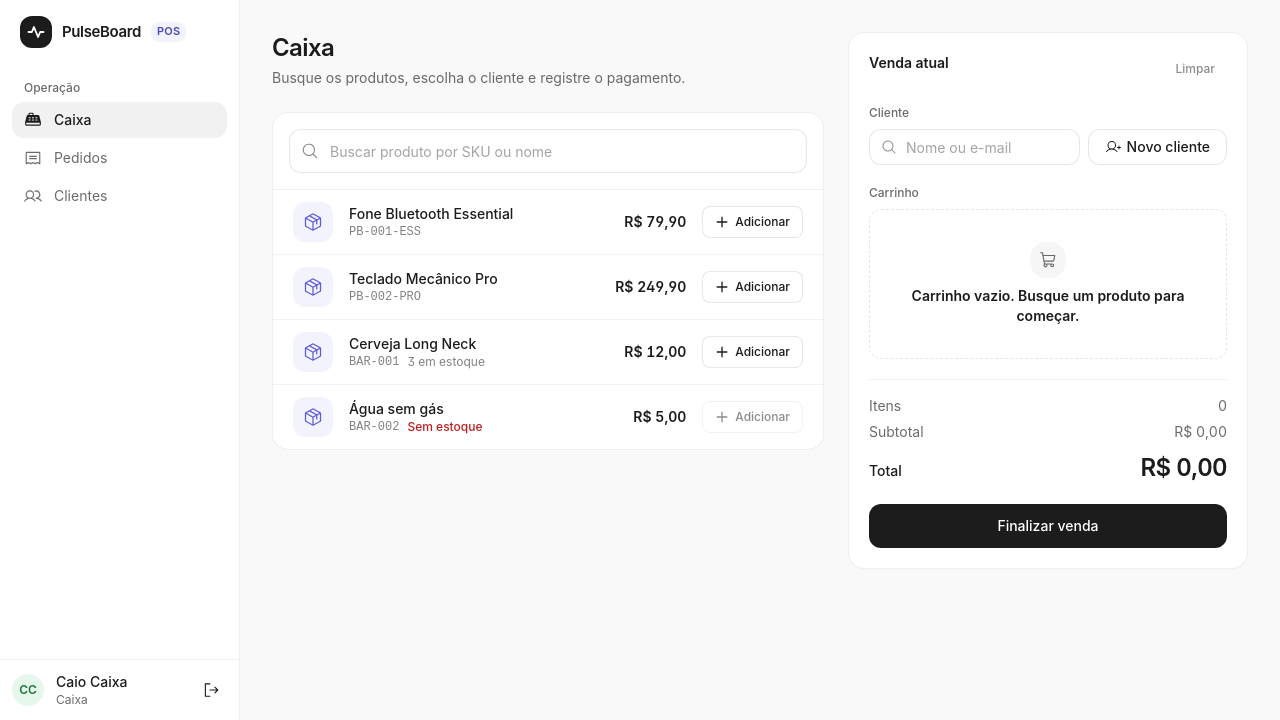
Test: checkout › requires a payment method
Click the button "Adicionar" in the row of "Fone Bluetooth Essential": (753, 222) [702, 206, 803, 238]
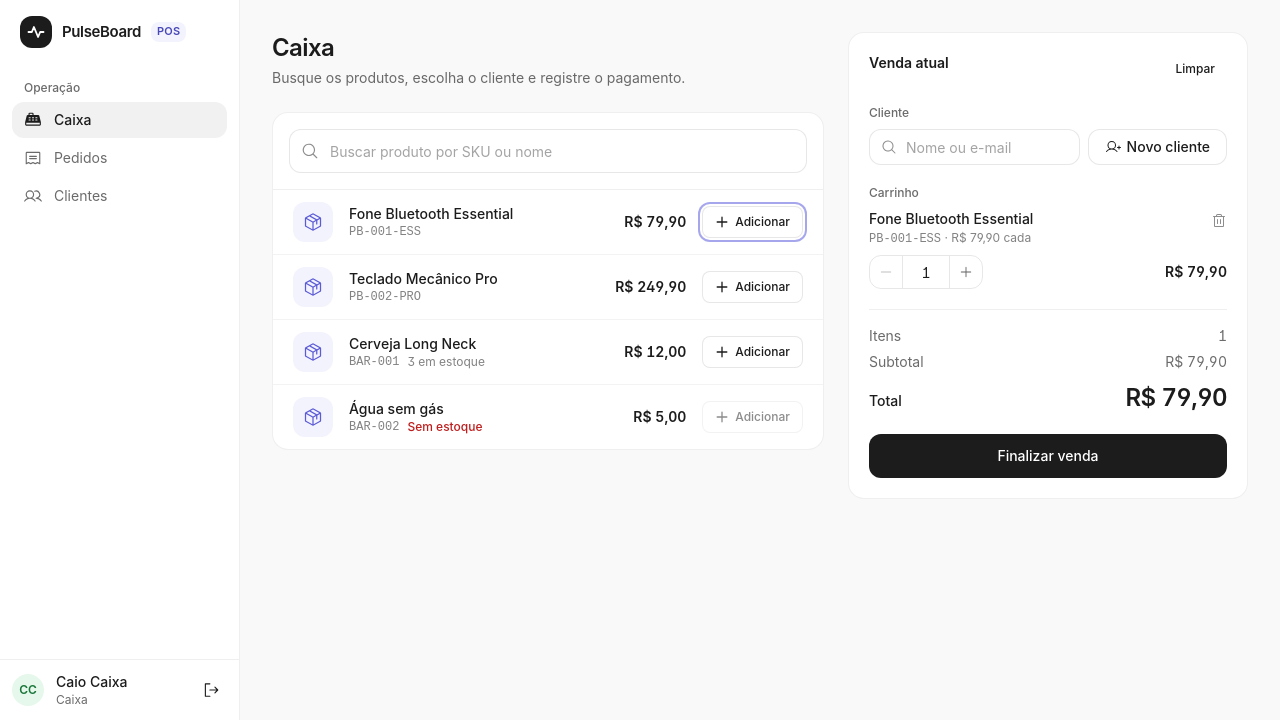
In the search field named "Buscar cliente": (974, 147) [869, 129, 1080, 165], type "maria"
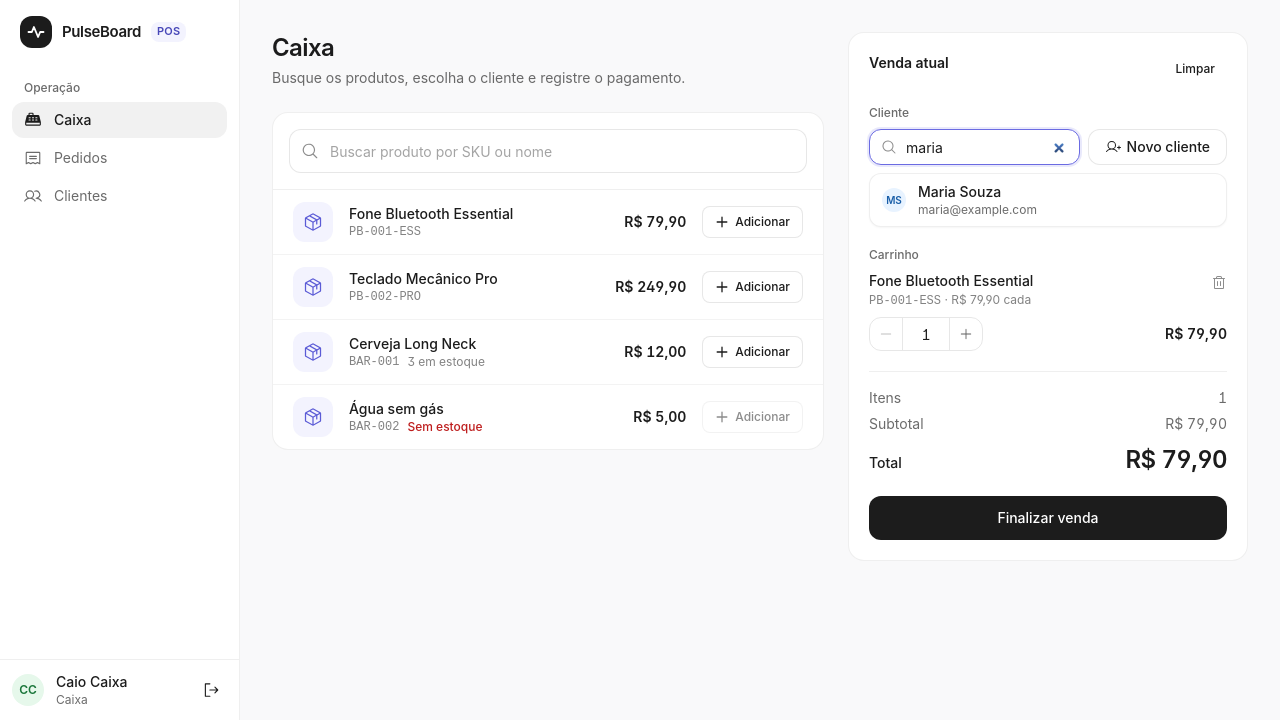
Click the button "MS Maria Souza maria@example.com": (960, 192) [870, 174, 1226, 226]
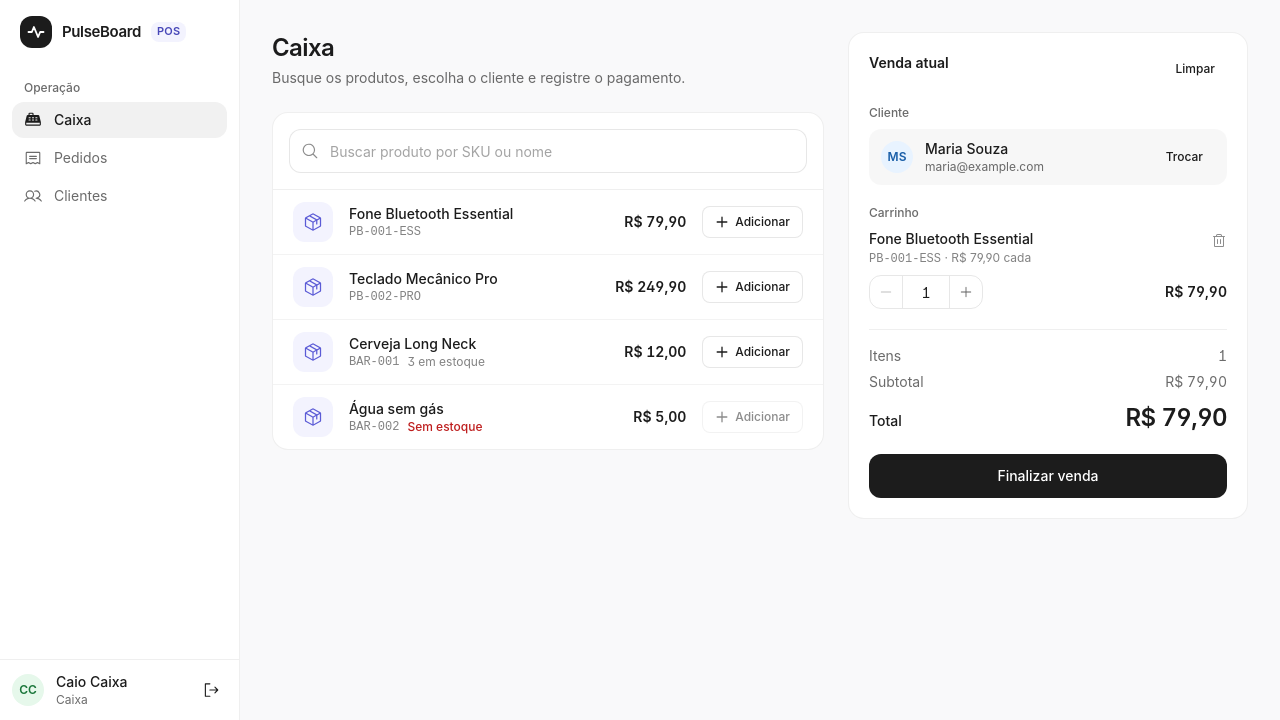
Click the button "Finalizar venda": (1048, 476) [869, 454, 1227, 498]
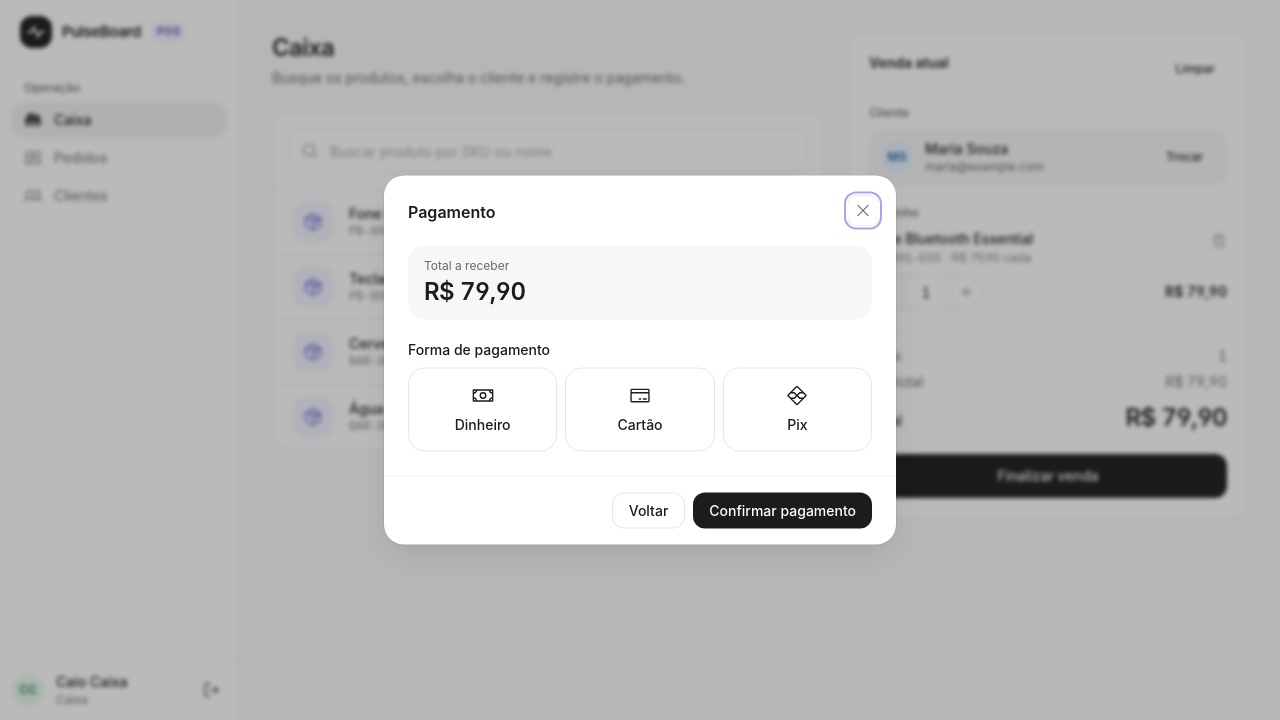
Click the button "Confirmar pagamento": (783, 510) [693, 492, 872, 528]
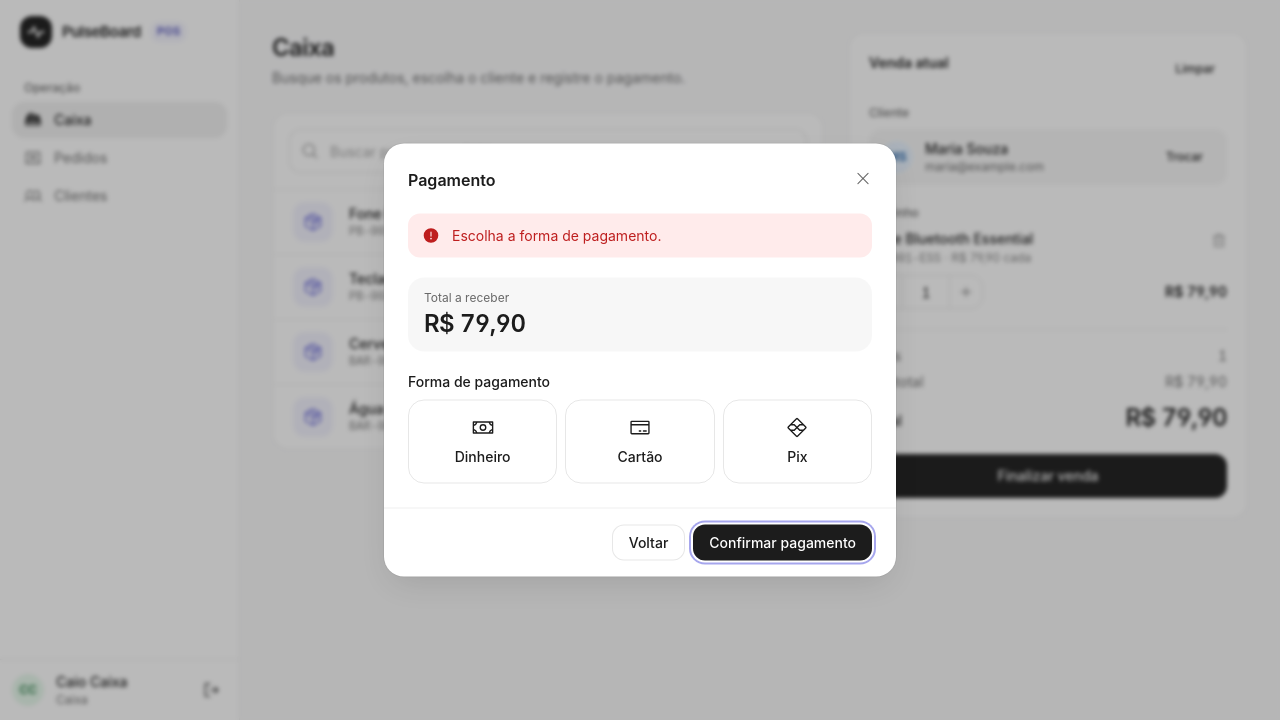
Now the message reads "Escolha a forma de pagamento.", box [452, 226, 662, 244]
